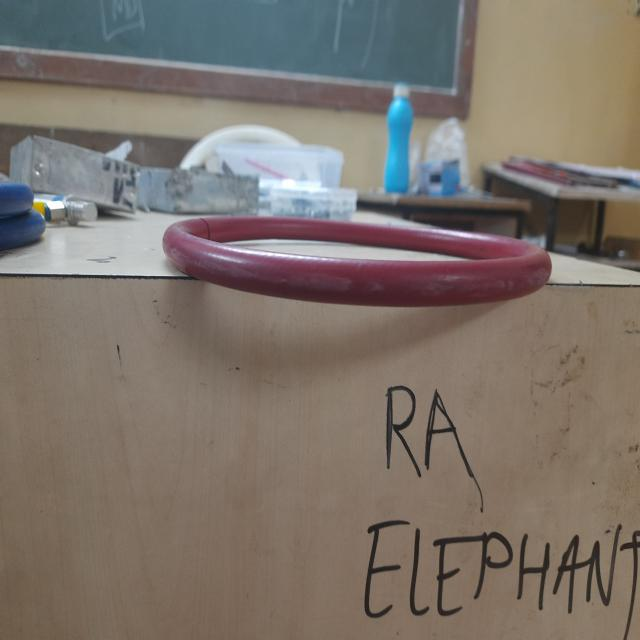daire: (168, 218, 548, 308)
